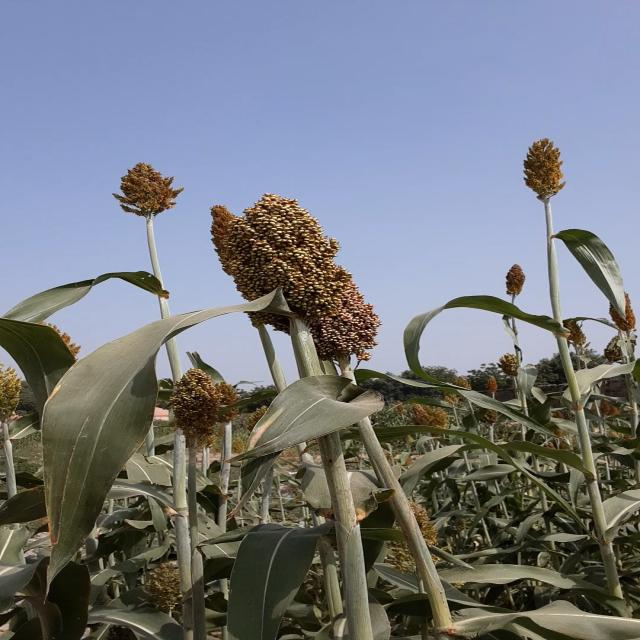UnripeSorghum: (190, 187, 397, 359)
